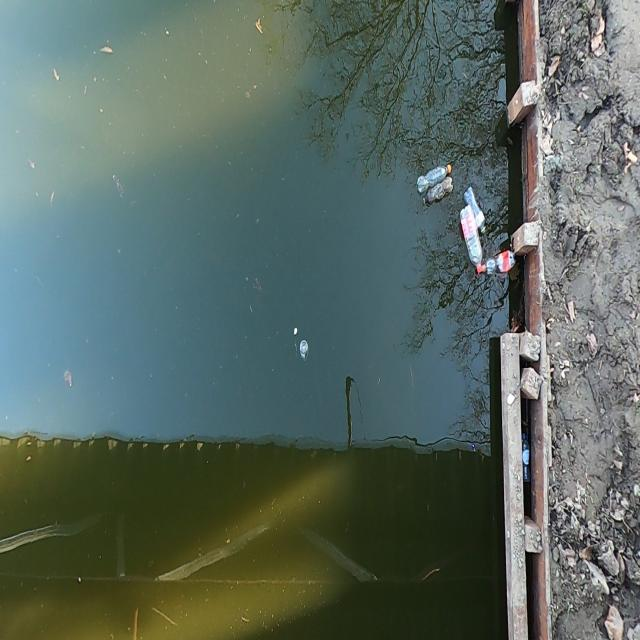Bouteille plastique: (458, 203, 484, 276), (411, 160, 454, 197), (463, 183, 487, 239), (421, 175, 455, 208), (481, 249, 517, 278)
